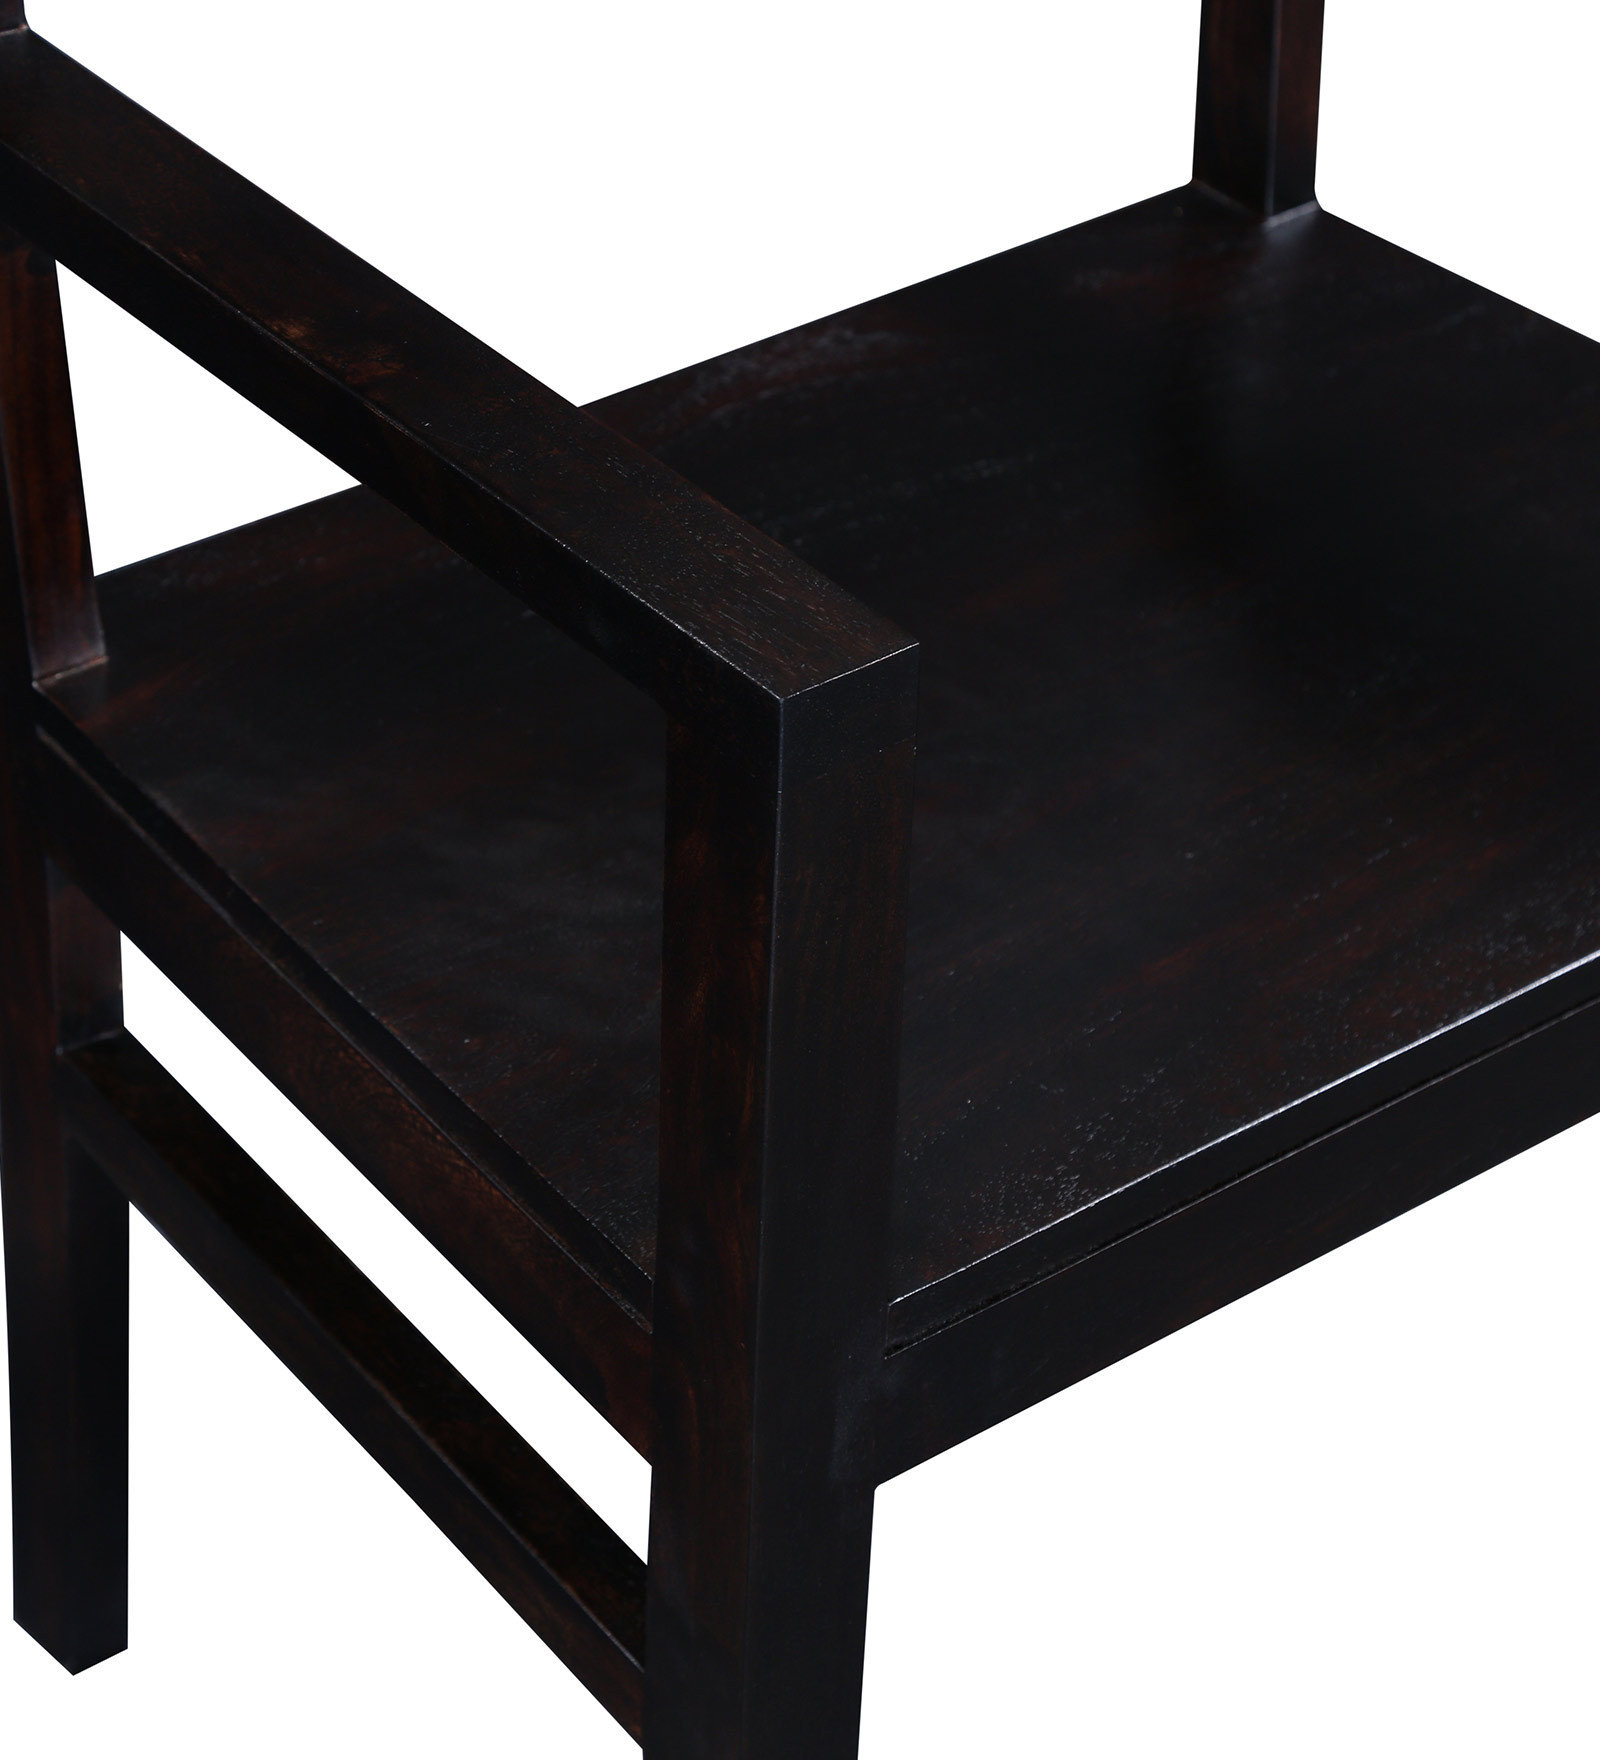Enkel Arm Chair in Warm Chestnut Finish by Woodsworth: (9, 2, 1568, 1760)
